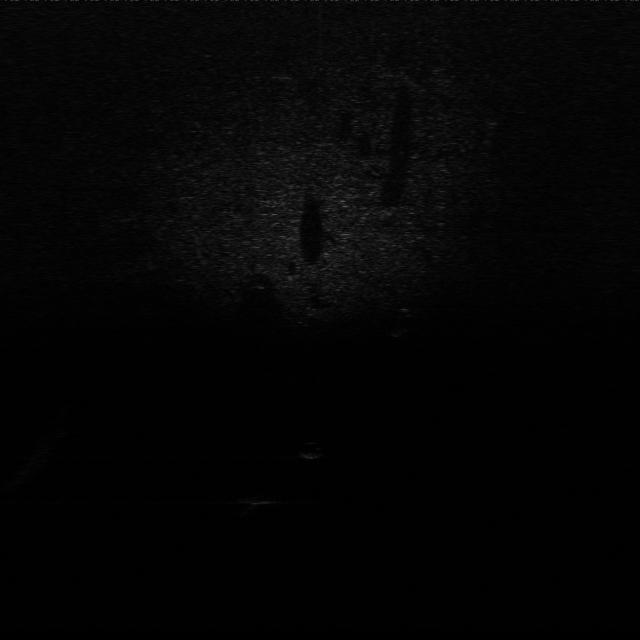ball: (296, 436, 328, 462)
square cage: (240, 488, 280, 510)
tyre: (384, 304, 420, 340)
